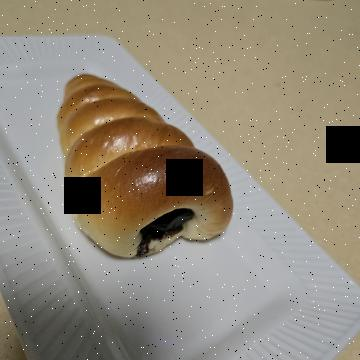cream horn: (46, 116, 270, 312)
